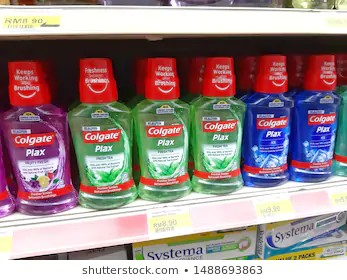colgate-Plax: (1, 48, 76, 214), (71, 58, 136, 208), (133, 52, 193, 204), (241, 51, 291, 188), (197, 51, 241, 196), (291, 50, 338, 182)
